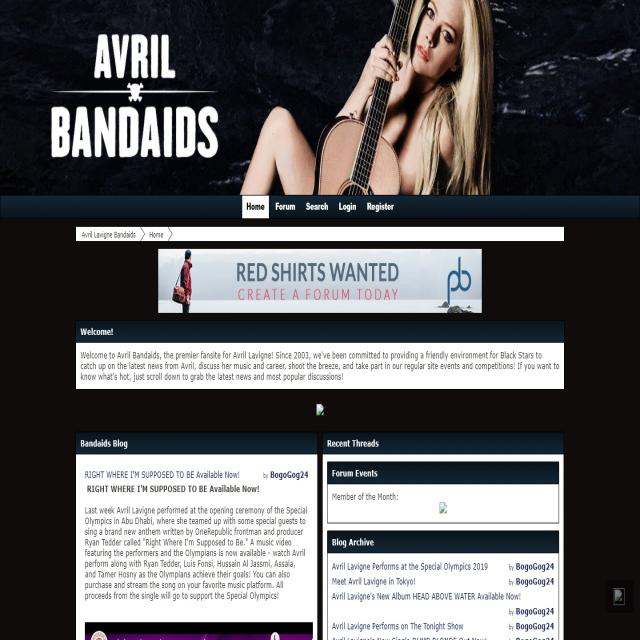button: (363, 195, 395, 220), (301, 196, 331, 220), (269, 197, 299, 220), (242, 195, 268, 219), (332, 197, 360, 218)
heading: (49, 23, 222, 162), (325, 437, 383, 453), (332, 534, 377, 554), (79, 435, 131, 452), (329, 466, 378, 484), (80, 325, 116, 338)
iframe: (158, 247, 482, 318)
image: (1, 0, 640, 195)
text: (83, 466, 313, 607), (328, 559, 556, 640), (78, 348, 563, 385), (329, 491, 396, 507)
